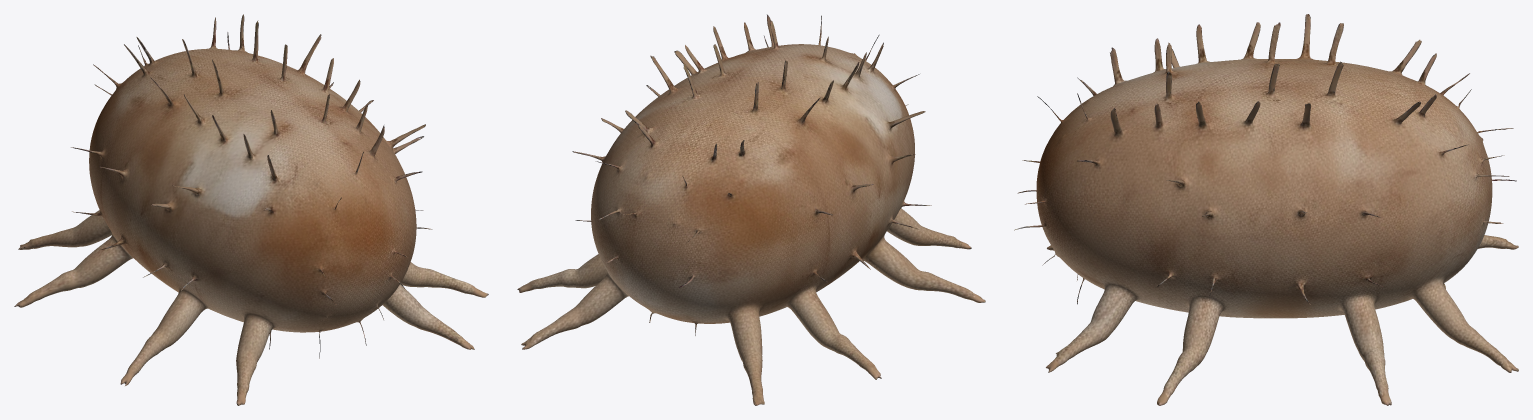
Rendered from vet_parasite_ear_mite.glb.
3 renders of one model, left to right at view 1: azimuth 30°, elevation 25°; view 2: azimuth 150°, elevation 25°; view 3: azimuth 270°, elevation 25°, orthographic. The views are drawn at different scales.
Visible parts, largest first — view 1: model; view 2: model; view 3: model.
Boxes of the visible parts, x1,y1,x2,y2 form: model: (14, 14, 488, 405); model: (517, 14, 985, 405); model: (1014, 14, 1518, 405).
Size of the model in its own units: 1.66 by 1.08 by 1.83.
1 material, 1 textured.
